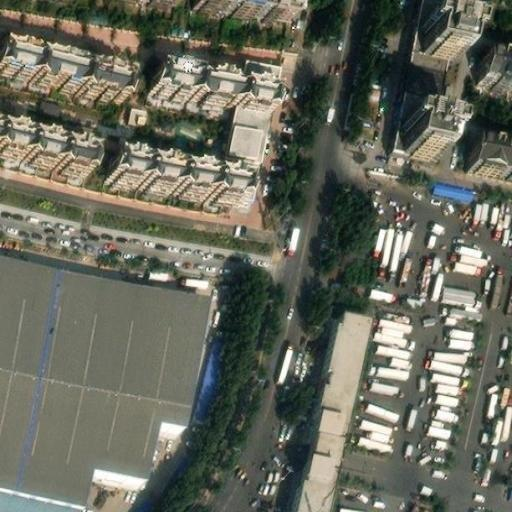building: (293, 319, 366, 512), (384, 0, 450, 140), (0, 36, 128, 97), (108, 149, 248, 200), (152, 61, 277, 106), (0, 118, 94, 168), (229, 99, 273, 153), (458, 133, 512, 174), (397, 104, 444, 147), (416, 3, 463, 45), (194, 0, 293, 19), (447, 241, 487, 276), (476, 49, 512, 84), (427, 177, 473, 203), (242, 53, 281, 82)
